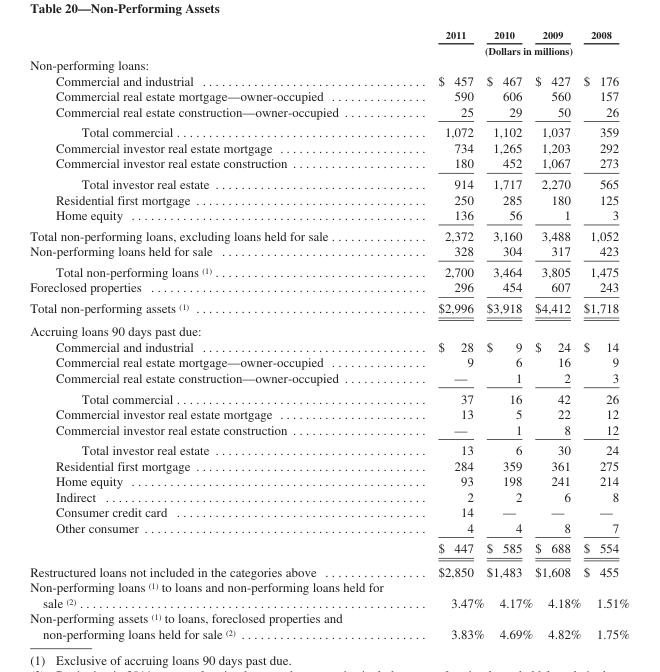table: (29, 28, 629, 640)
table column: (29, 28, 410, 640), (410, 28, 484, 640), (484, 28, 533, 640), (533, 28, 581, 640), (581, 28, 629, 640)
table column header: (29, 28, 629, 56)
table projected row header: (29, 319, 629, 338), (29, 56, 629, 72)
table row: (29, 579, 629, 610), (29, 610, 629, 640), (29, 297, 629, 319), (29, 537, 629, 559), (29, 559, 629, 579), (29, 206, 629, 225), (29, 319, 629, 338), (29, 103, 629, 121), (29, 121, 629, 139), (29, 155, 629, 173), (29, 173, 629, 191), (29, 225, 629, 243), (29, 243, 629, 261), (29, 261, 629, 279), (29, 279, 629, 297), (29, 369, 629, 387), (29, 387, 629, 405), (29, 421, 629, 439), (29, 439, 629, 457), (29, 519, 629, 537), (29, 56, 629, 72), (29, 72, 629, 88), (29, 139, 629, 155), (29, 338, 629, 354), (29, 405, 629, 421), (29, 457, 629, 473), (29, 488, 629, 504), (29, 88, 629, 103), (29, 191, 629, 206), (29, 354, 629, 369), (29, 473, 629, 488), (29, 504, 629, 519), (29, 28, 629, 42), (29, 42, 629, 56)
table spanning cell: (410, 42, 629, 56)
